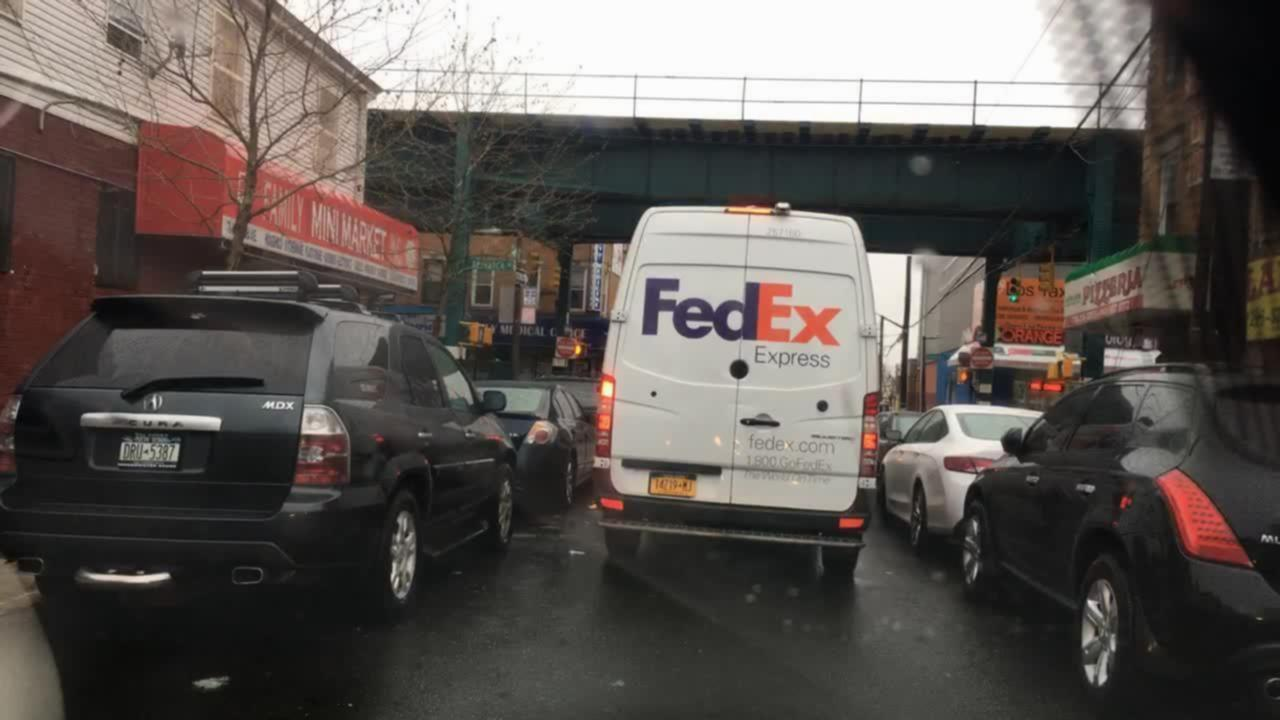acura: (135, 387, 176, 420)
